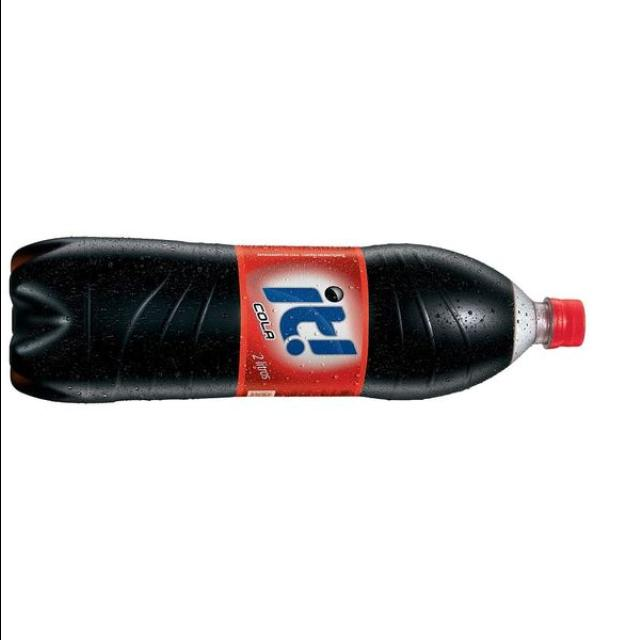cap: (2, 218, 107, 409), (528, 279, 583, 358)
